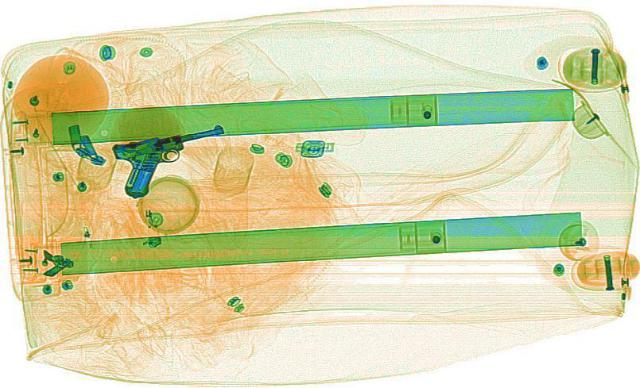Gun: (91, 118, 252, 196)
